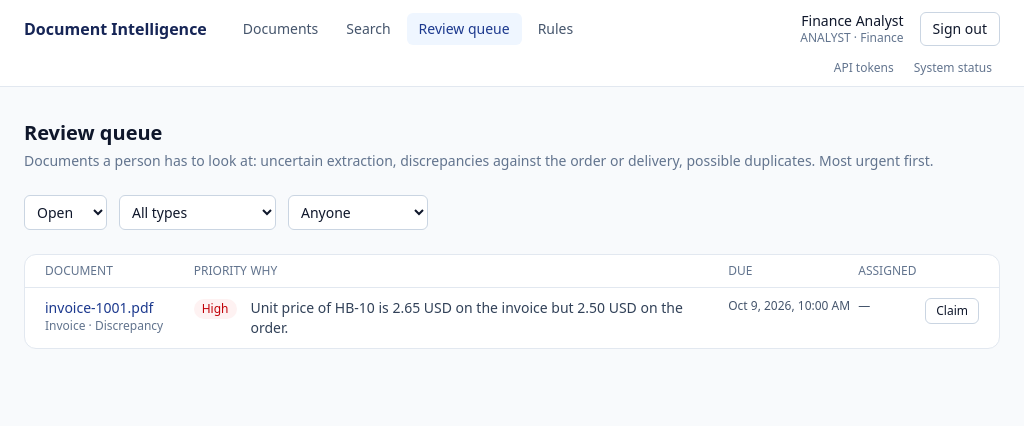
Test: review queue › shows the server's reason when a claim is refused
This screenshot has width=1024, height=426.
Click the button "Claim" at (952, 311), box [925, 298, 979, 324]
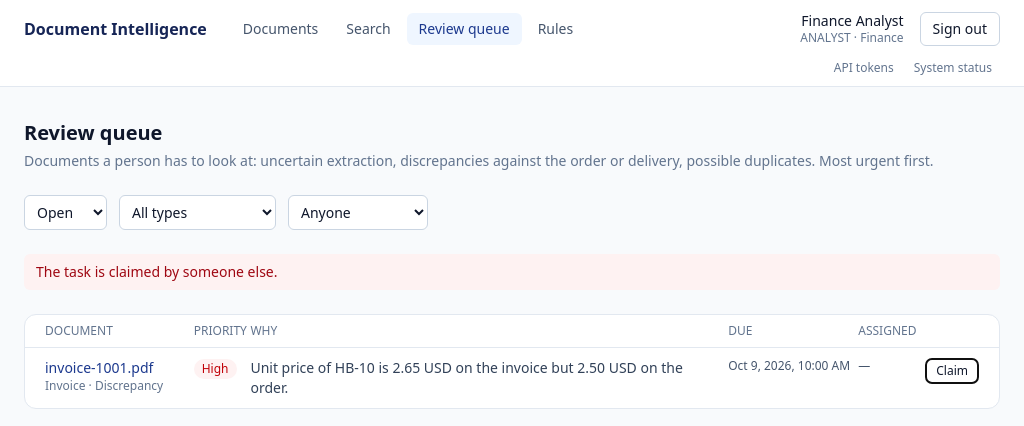
Result: the message shows "claimed by someone else" at [36, 262, 278, 281]
